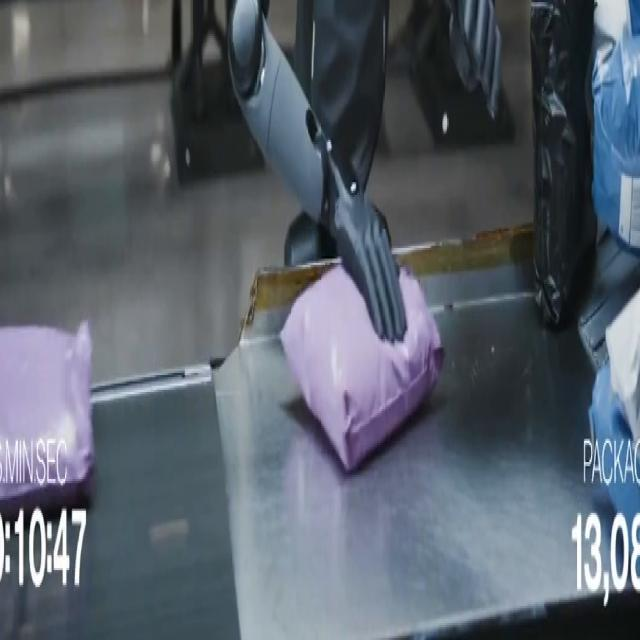package: (281, 265, 443, 472), (530, 0, 597, 326), (0, 323, 94, 519), (592, 0, 639, 252), (584, 365, 639, 529), (606, 291, 639, 440)
